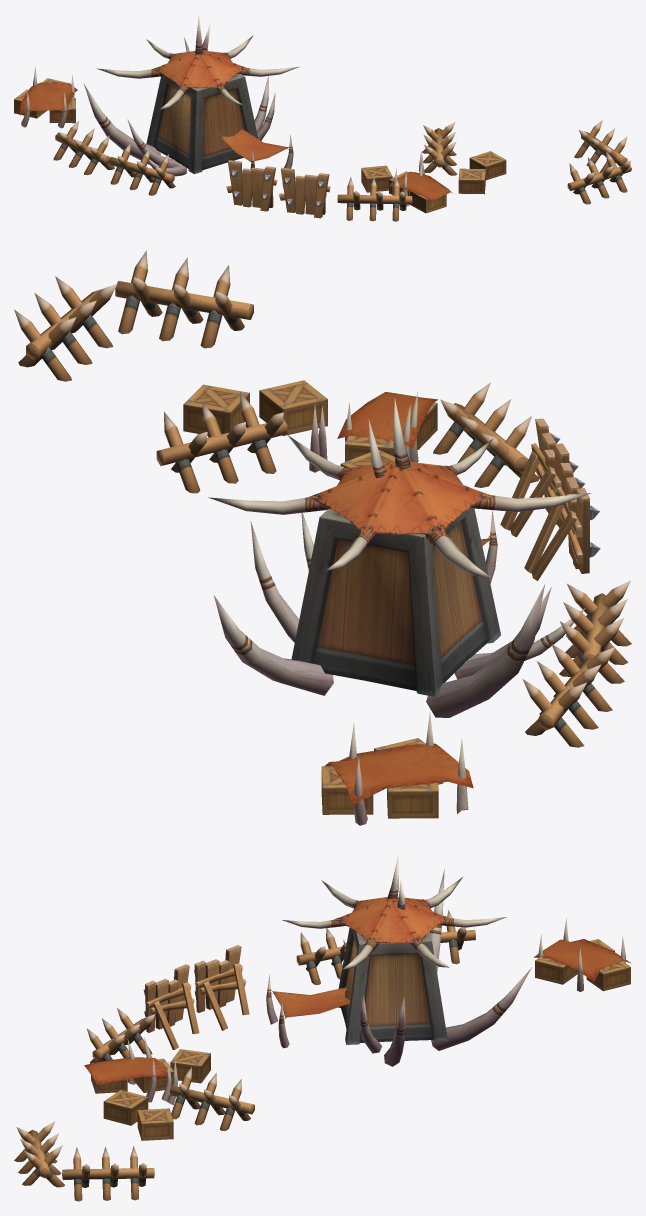
Rendered from area_08_19.fbx.
3 renders of one model, top to bottom at view 1: azimuth 30°, elevation 25°; view 2: azimuth 150°, elevation 25°; view 3: azimuth 270°, elevation 25°, orthographic. The views are drawn at different scales.
Parts seen in each view (by area): view 1: area_08_19; view 2: area_08_19; view 3: area_08_19.
Boxes of the visible parts, x1,y1,x2,y2 form: area_08_19: [14, 15, 631, 221]; area_08_19: [14, 250, 631, 825]; area_08_19: [14, 855, 630, 1201].
Size of the model in its own units: 34.77 by 11.85 by 35.51.
